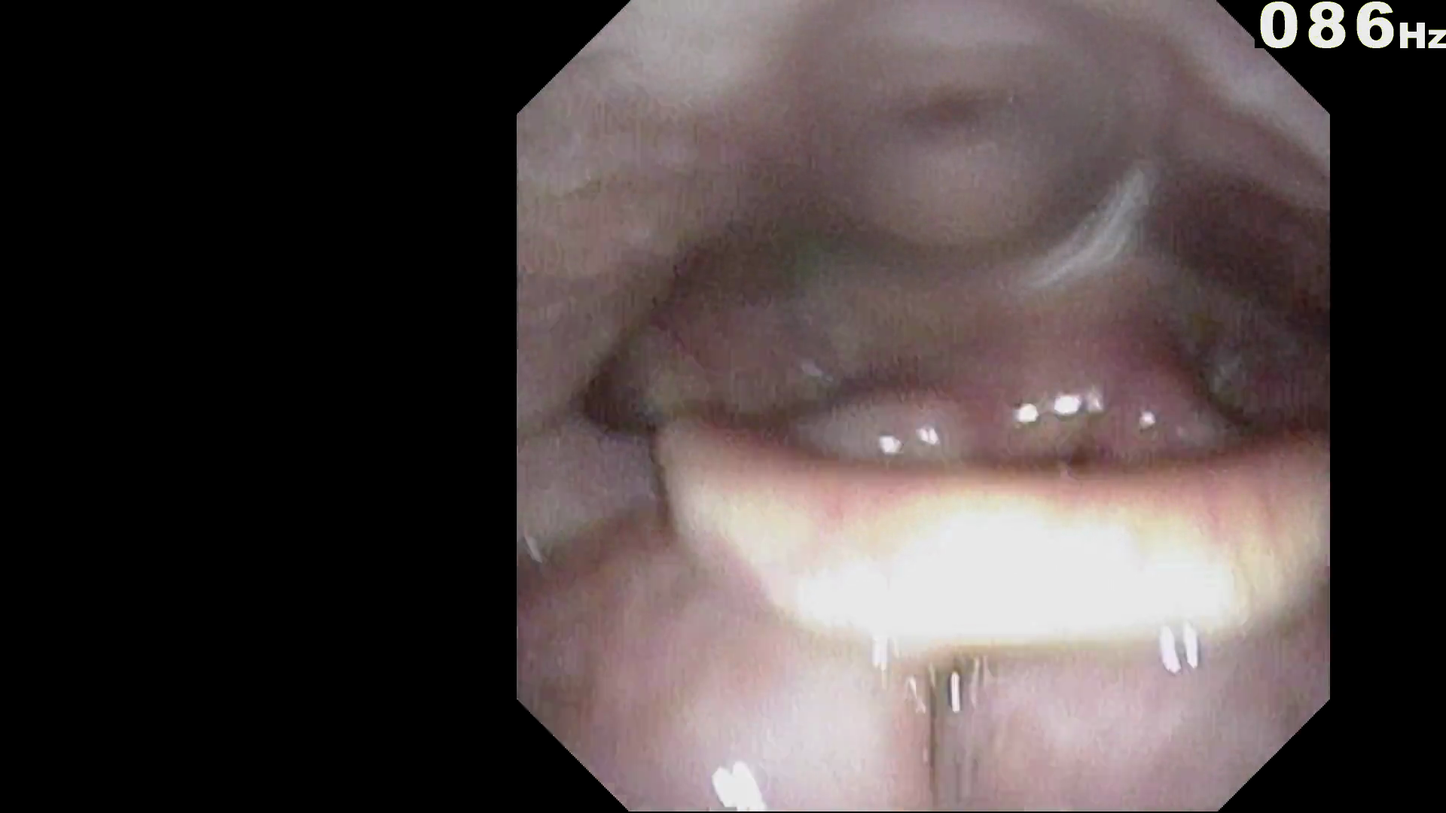epiglottis: (650, 467, 1282, 692)
